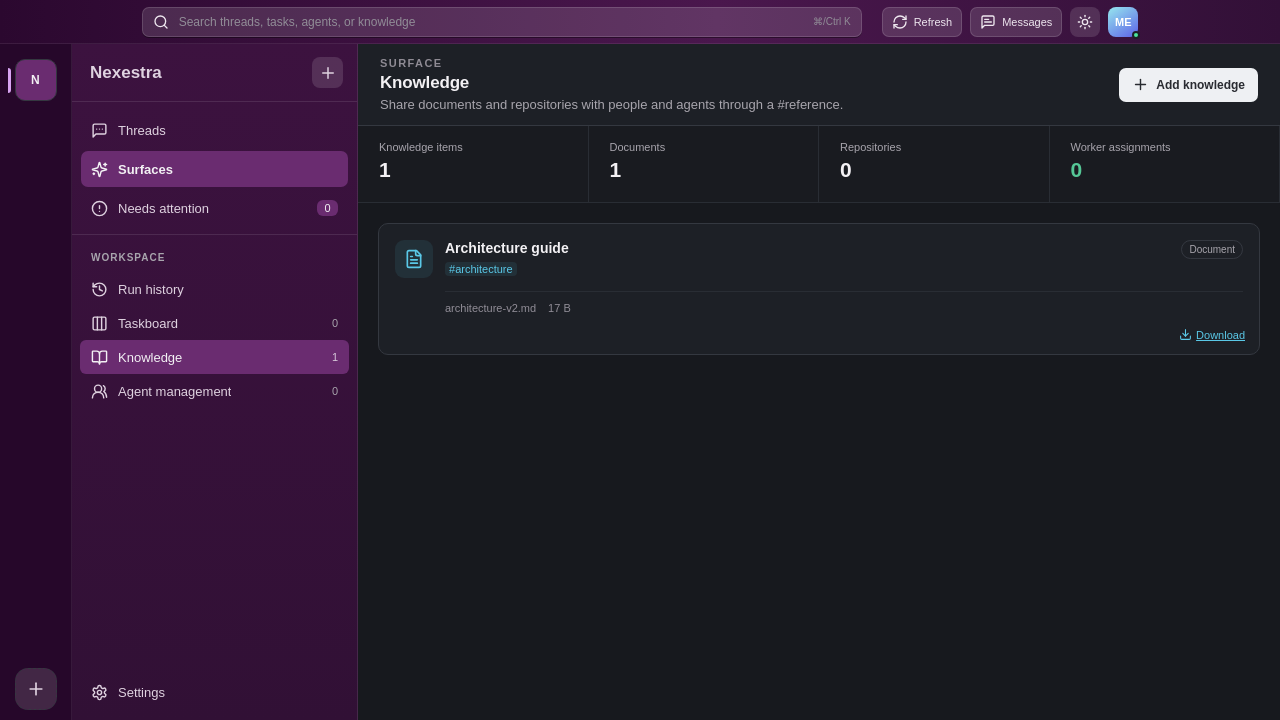
Scenario: Knowledge document revisions › restores an older revision as a new current without losing old downloads
Expected: the heading "Knowledge" is shown, [380,73,469,92]
Click the button with aria-label "View details for Architecture guide" at coordinates (819, 289), box [379,224,1259,354]
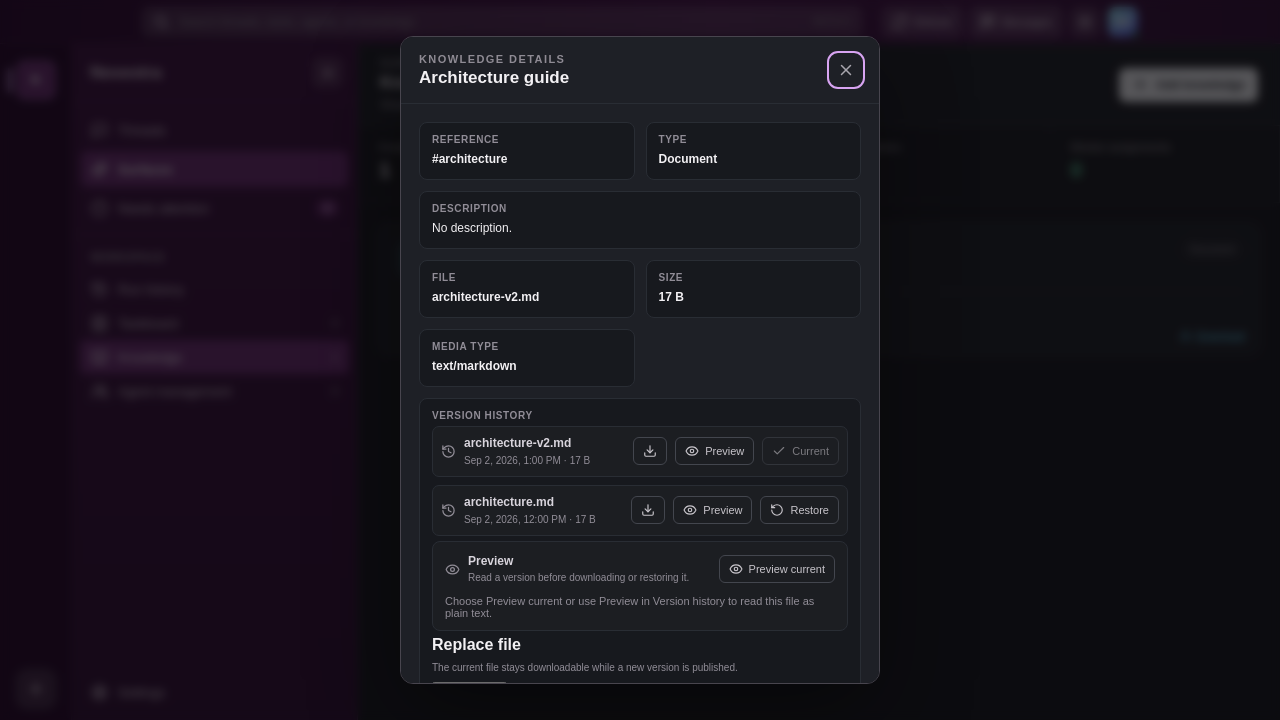
Expected: the text "Version history" is shown, [432,410,533,421]
Click the button with aria-label "Restore architecture.md" at coordinates (800, 510), box [760,496,839,524]
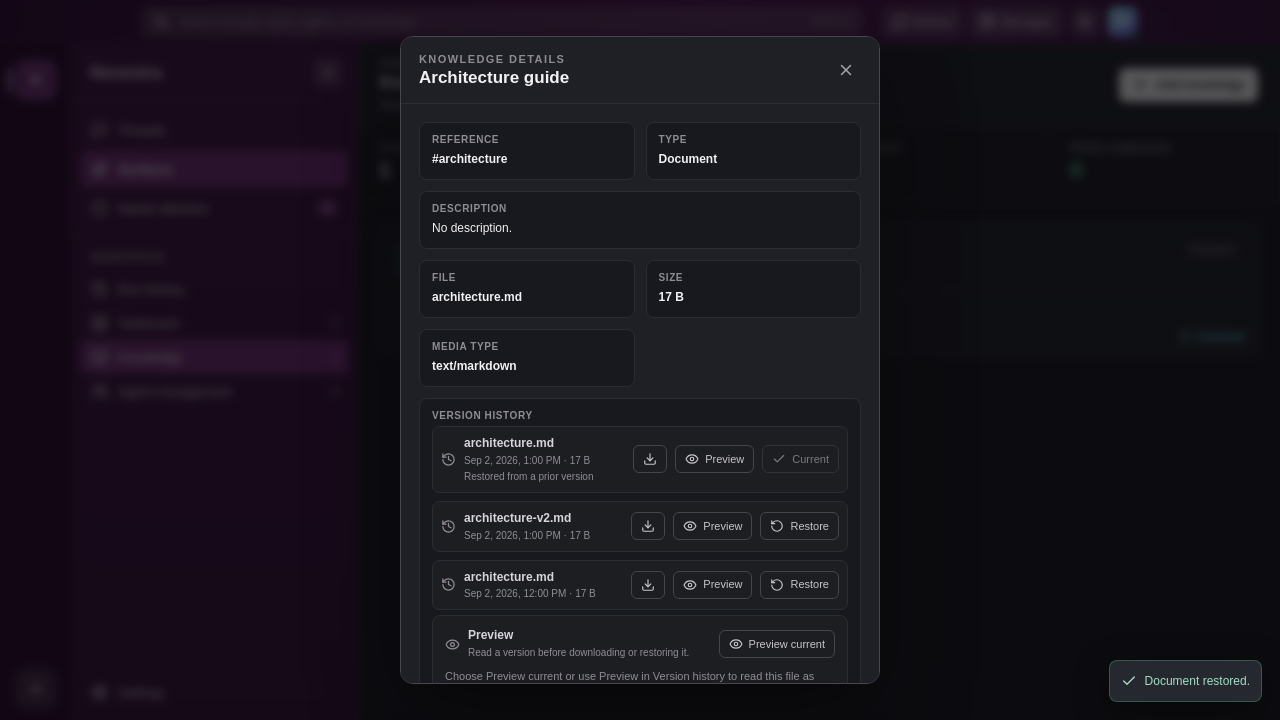
Expected: the button with aria-label "Current architecture.md" is shown, [762,445,839,473]
Expected: the text "Restored from a prior version" is shown, [464,471,594,482]
Expected: the number of links named "Download architecture.md" is 2, [633,445,667,473]; [631,571,665,599]
